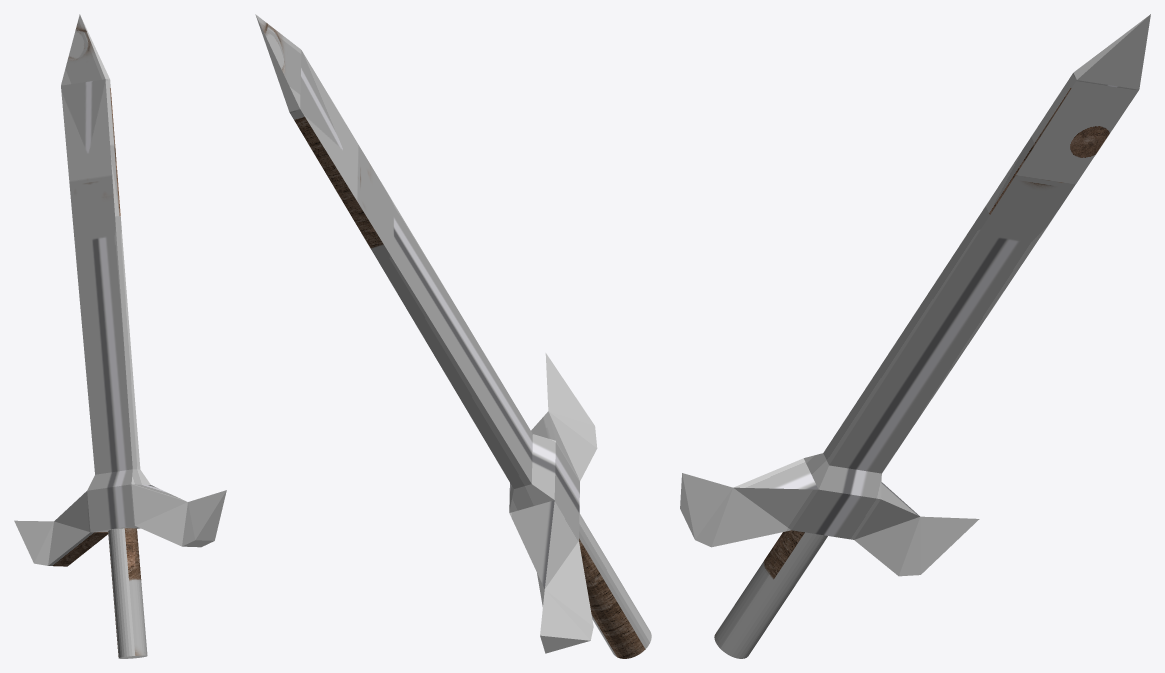
The model's file is Protagonista115.obj.
The picture shows the model from 3 angles, left to right: view 1: azimuth 30°, elevation 25°; view 2: azimuth 150°, elevation 25°; view 3: azimuth 270°, elevation 25°; orthographic projection. The views are drawn at different scales.
Visible parts, largest first — view 1: Cube; view 2: Cube; view 3: Cube.
Part boxes in pixels (<box>): Cube: <box>14,14,226,658</box>; Cube: <box>255,14,651,658</box>; Cube: <box>680,14,1150,658</box>.
Bounding box in the file's own units: 0.4315 × 1.53 × 0.9251.
Materials: 1 (1 with a texture image).
